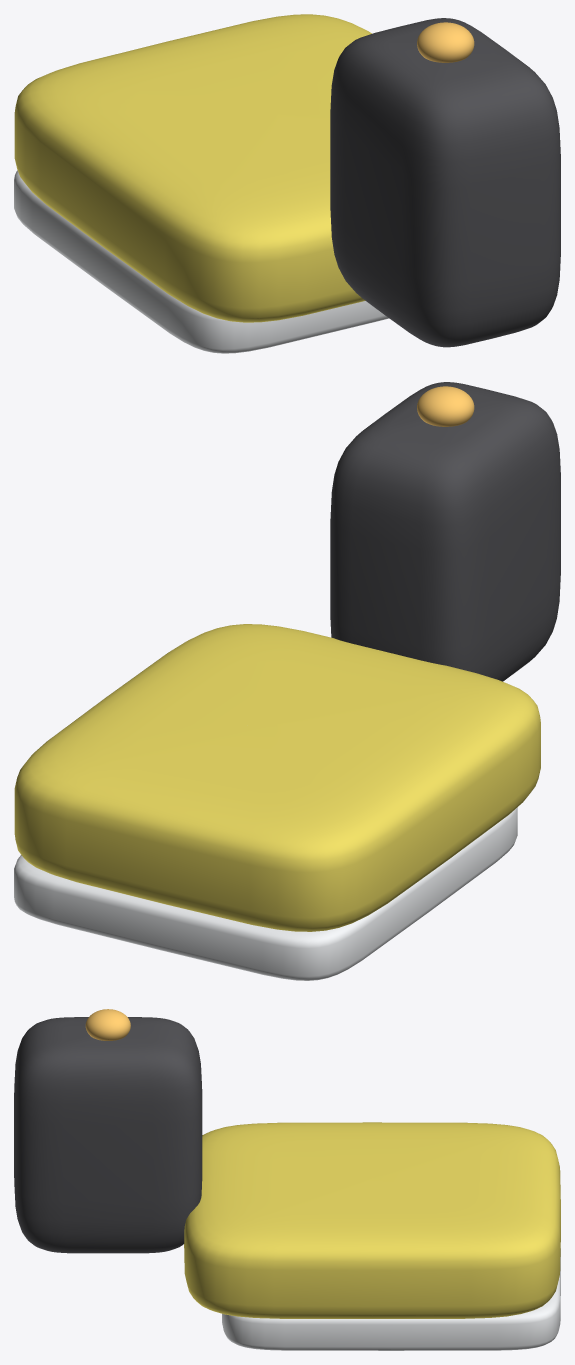
The model's file is defibrillator.glb.
3 renders of one model, top to bottom at view 1: azimuth 30°, elevation 25°; view 2: azimuth 150°, elevation 25°; view 3: azimuth 270°, elevation 25°, orthographic. The views are drawn at different scales.
Visible parts, largest first — view 1: Housing, Handle, Plate, Light; view 2: Housing, Handle, Plate, Light; view 3: Housing, Handle, Plate, Light.
Part boxes in pixels (x1,y1,x2,y2): Housing: (14, 14, 371, 322); Handle: (330, 18, 560, 347); Plate: (14, 170, 388, 353); Light: (417, 22, 474, 62); Housing: (14, 624, 540, 931); Handle: (330, 382, 560, 681); Plate: (14, 807, 517, 980); Light: (417, 386, 474, 426); Housing: (184, 1122, 560, 1318); Handle: (14, 1017, 202, 1253); Plate: (222, 1248, 560, 1350); Light: (85, 1009, 130, 1040).
Bounding box in the file's own units: 0.0849 × 0.082 × 0.1449.
